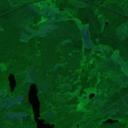alloviz: (27, 82, 56, 128), (7, 71, 17, 93), (102, 116, 119, 125), (87, 91, 95, 100)
